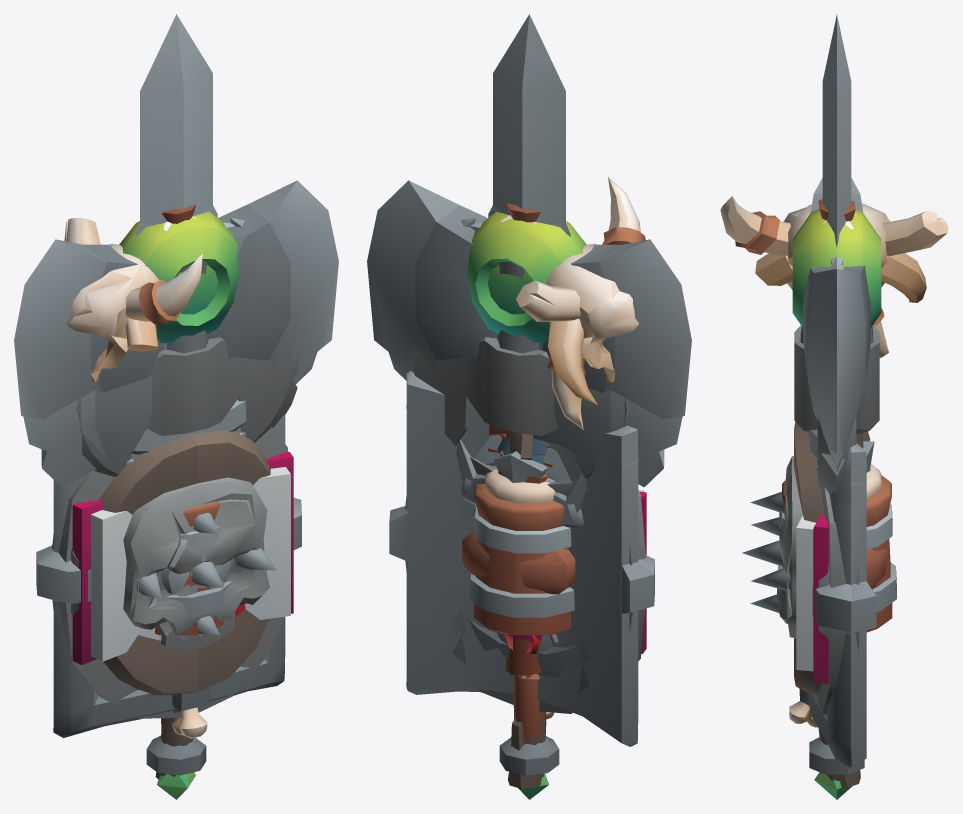
File: items.glb
3 views of the same model, side by side, from view 1: azimuth 30°, elevation 25°; view 2: azimuth 150°, elevation 25°; view 3: azimuth 270°, elevation 25° (orthographic).
Visible parts, largest first — view 1: Skeleton_Shield_Large_A, axe_2handed, spellbook_open, sword_2handed, Skeleton_Axe, staff, Skeleton_Staff, shield_square, axe_1handed, shield_spikes, mug_full; view 2: shield_square, axe_2handed, sword_2handed, Skeleton_Staff, staff, mug_full, Skeleton_Axe, axe_1handed, Skeleton_Shield_Large_A, shield_spikes, Skeleton_Shield_Small_A, Skeleton_Blade (+4 smaller); view 3: axe_2handed, Skeleton_Staff, Skeleton_Shield_Large_A, shield_square, staff, shield_spikes, sword_2handed, spellbook_open, Skeleton_Axe, mug_full, shield_badge.
Boxes of the visible parts, bbox=[...] form: Skeleton_Shield_Large_A: bbox=[52, 426, 288, 718]; axe_2handed: bbox=[14, 180, 338, 420]; spellbook_open: bbox=[72, 452, 293, 664]; sword_2handed: bbox=[140, 14, 212, 224]; Skeleton_Axe: bbox=[76, 337, 299, 476]; staff: bbox=[119, 211, 244, 799]; Skeleton_Staff: bbox=[64, 218, 207, 779]; shield_square: bbox=[53, 400, 285, 737]; axe_1handed: bbox=[23, 343, 166, 487]; shield_spikes: bbox=[36, 415, 301, 712]; mug_full: bbox=[155, 501, 232, 635]; shield_square: bbox=[406, 371, 638, 746]; axe_2handed: bbox=[367, 180, 691, 675]; sword_2handed: bbox=[456, 14, 586, 655]; Skeleton_Staff: bbox=[508, 177, 645, 788]; staff: bbox=[461, 211, 586, 799]; mug_full: bbox=[469, 469, 574, 635]; Skeleton_Axe: bbox=[406, 337, 629, 483]; axe_1handed: bbox=[507, 343, 682, 487]; Skeleton_Shield_Large_A: bbox=[405, 490, 645, 713]; shield_spikes: bbox=[389, 405, 654, 691]; Skeleton_Shield_Small_A: bbox=[468, 435, 577, 677]; Skeleton_Blade: bbox=[470, 222, 573, 644]; axe_2handed: bbox=[800, 178, 873, 470]; Skeleton_Staff: bbox=[720, 196, 948, 787]; Skeleton_Shield_Large_A: bbox=[778, 422, 887, 716]; shield_square: bbox=[808, 430, 866, 768]; staff: bbox=[792, 209, 881, 799]; shield_spikes: bbox=[742, 465, 876, 705]; sword_2handed: bbox=[822, 15, 874, 472]; spellbook_open: bbox=[796, 515, 828, 683]; Skeleton_Axe: bbox=[794, 325, 879, 494]; mug_full: bbox=[777, 464, 896, 632]; shield_badge: bbox=[834, 485, 865, 584].
Bounding box in the file's own units: 1.24 × 2.86 × 0.7533.
5 materials, 5 textured.
